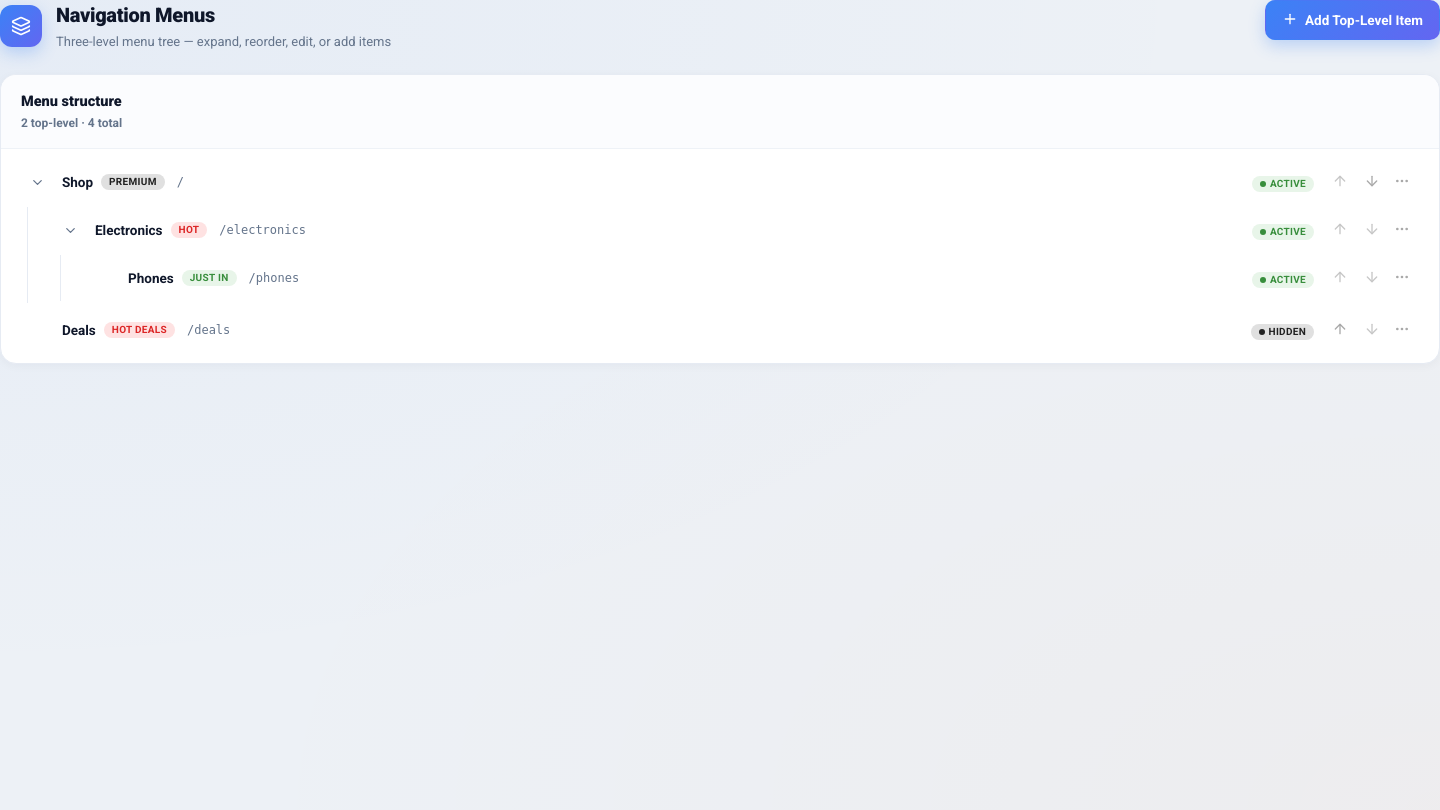
Test: MenuTreeEditor › disables the badge variant control when the column is missing
This screenshot has width=1440, height=810.
Expected: the text "Shop" is shown, [62,172,93,192]
Click the button "Add Top-Level Item": (1352, 20) [1265,0,1439,40]
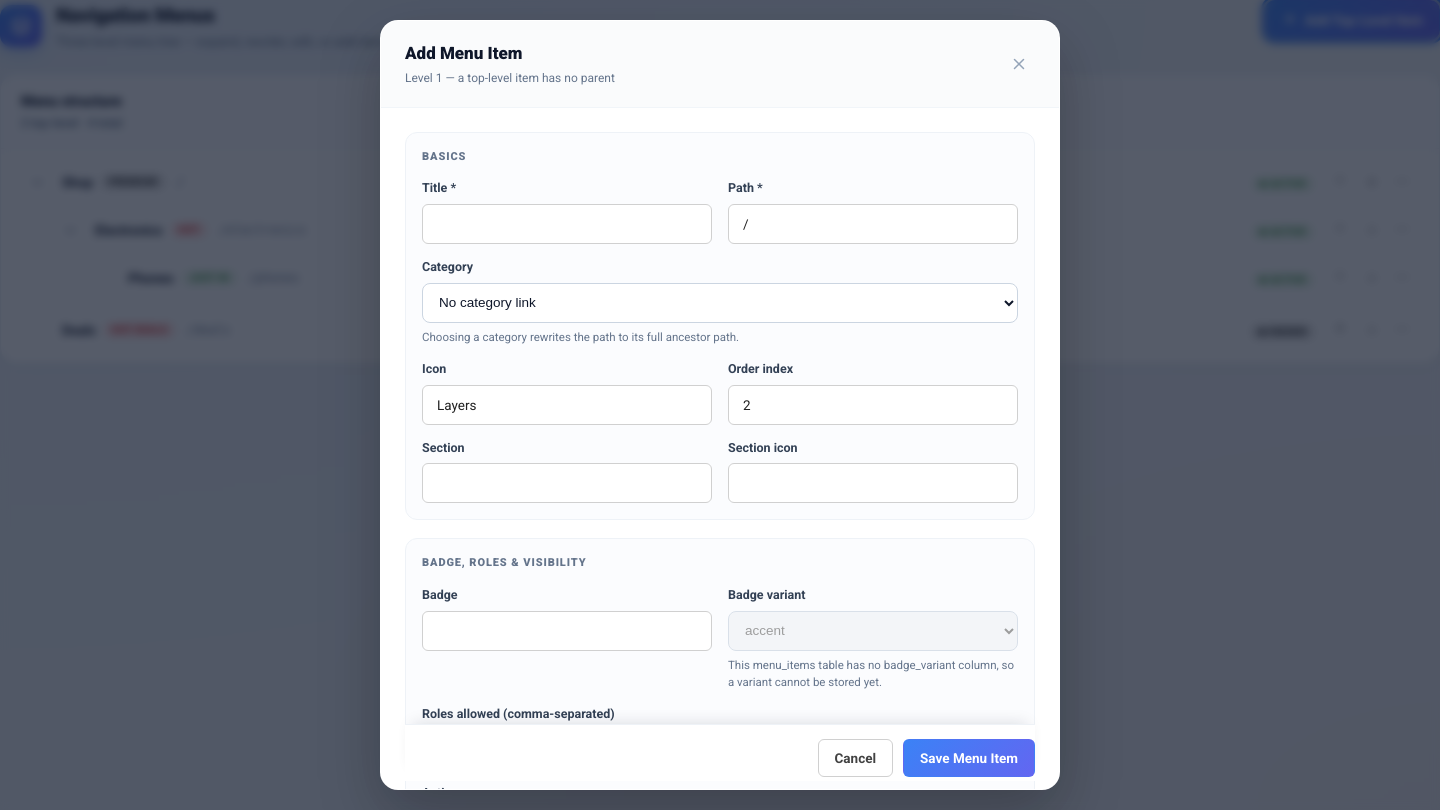
Now the dropdown labelled "Badge variant" is disabled, box [728,610,1018,650]
Now the text "badge_variant column" is shown, box [728,658,1014,689]
